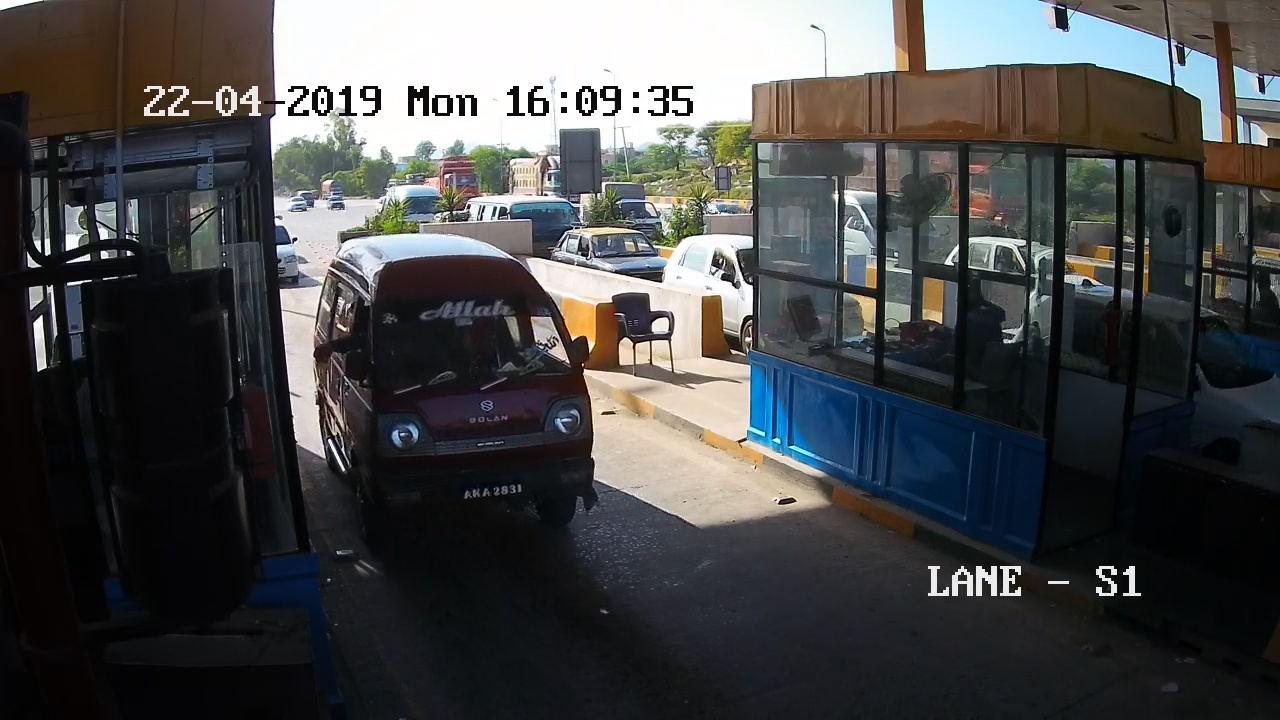Number Plate (Car): (454, 482, 529, 500)
